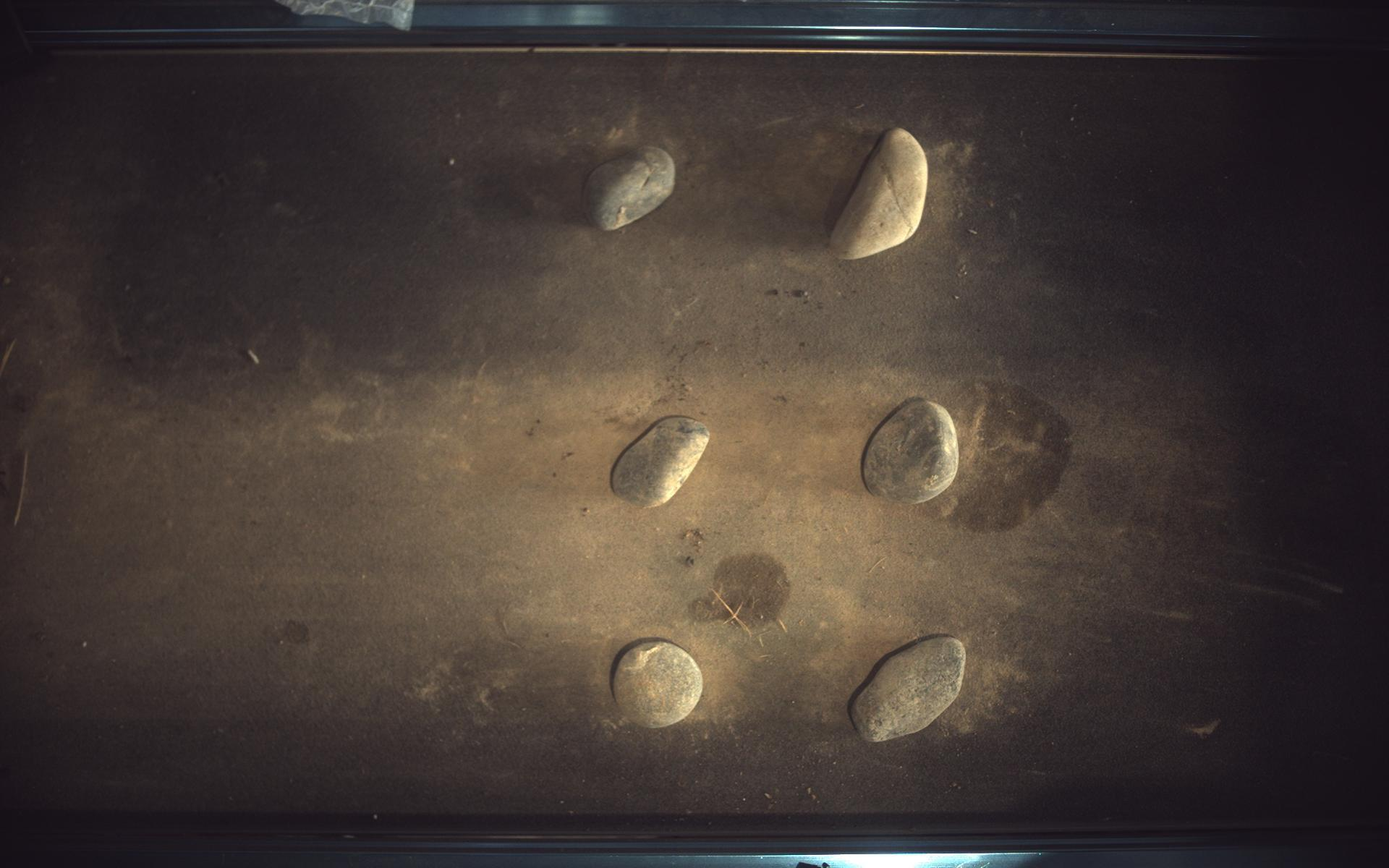stone: (831, 127, 929, 259), (851, 636, 968, 744), (864, 398, 961, 503), (612, 416, 711, 508), (611, 639, 703, 729), (584, 145, 676, 230)
